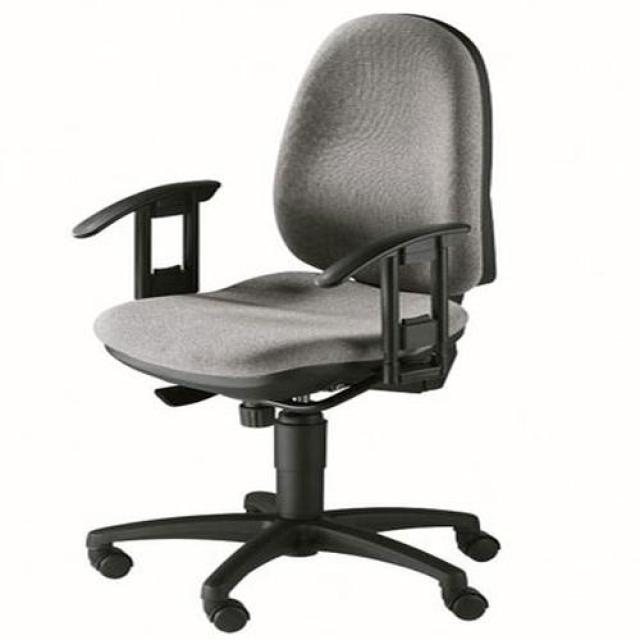swivelchair: (88, 13, 500, 614)
